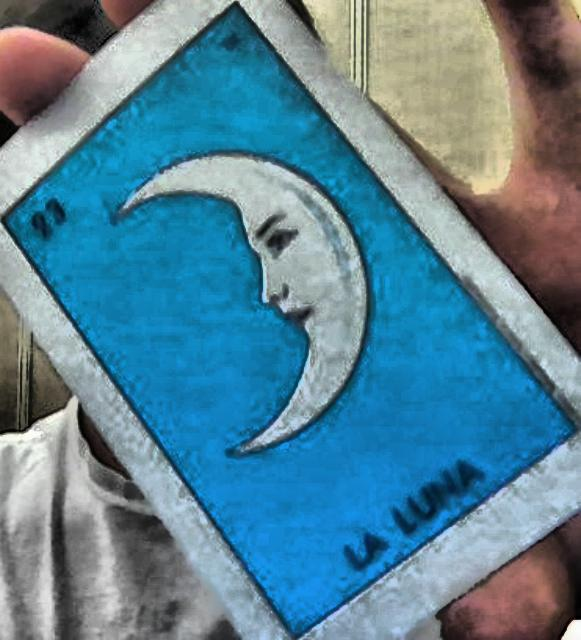La Luna: (4, 3, 579, 638)
